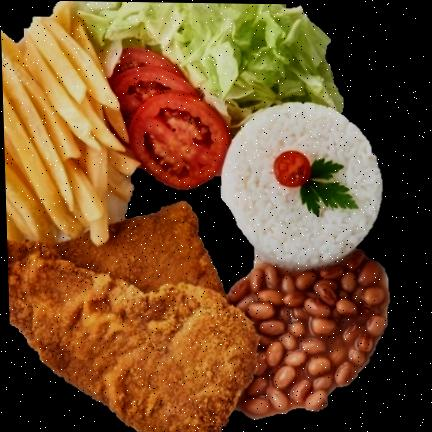beans: (229, 250, 389, 417)
chicken: (7, 202, 259, 432)
potato: (1, 1, 139, 242)
rice: (74, 1, 343, 131), (222, 102, 381, 269)
tomato: (109, 49, 232, 189), (275, 151, 310, 186)
